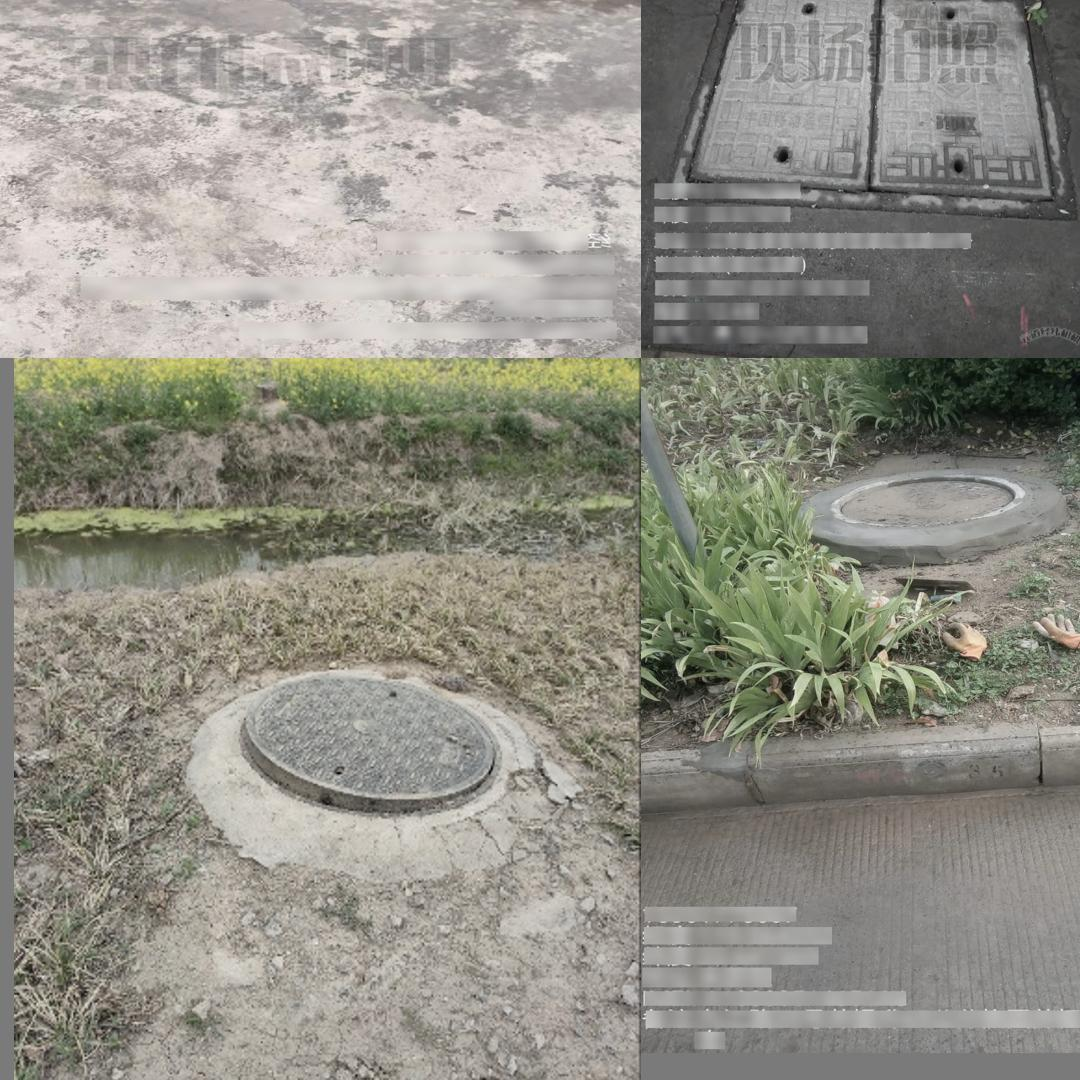good: (672, 0, 1073, 221), (242, 677, 505, 814), (829, 473, 1026, 524)
